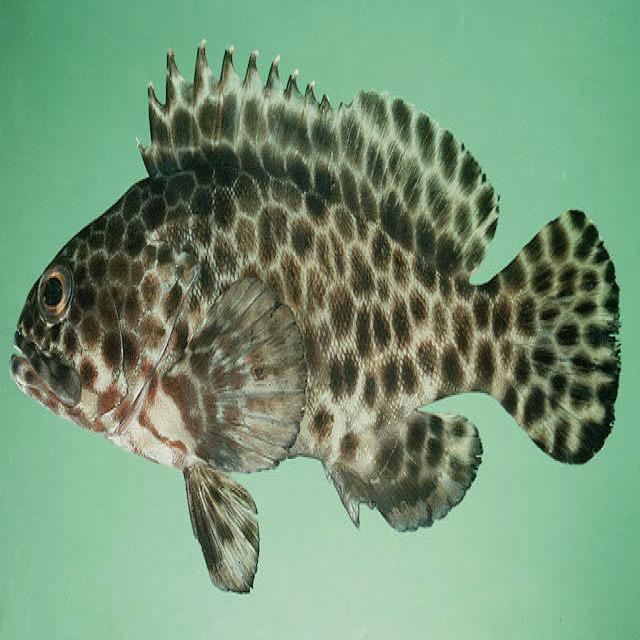ikan: (9, 38, 622, 594)
